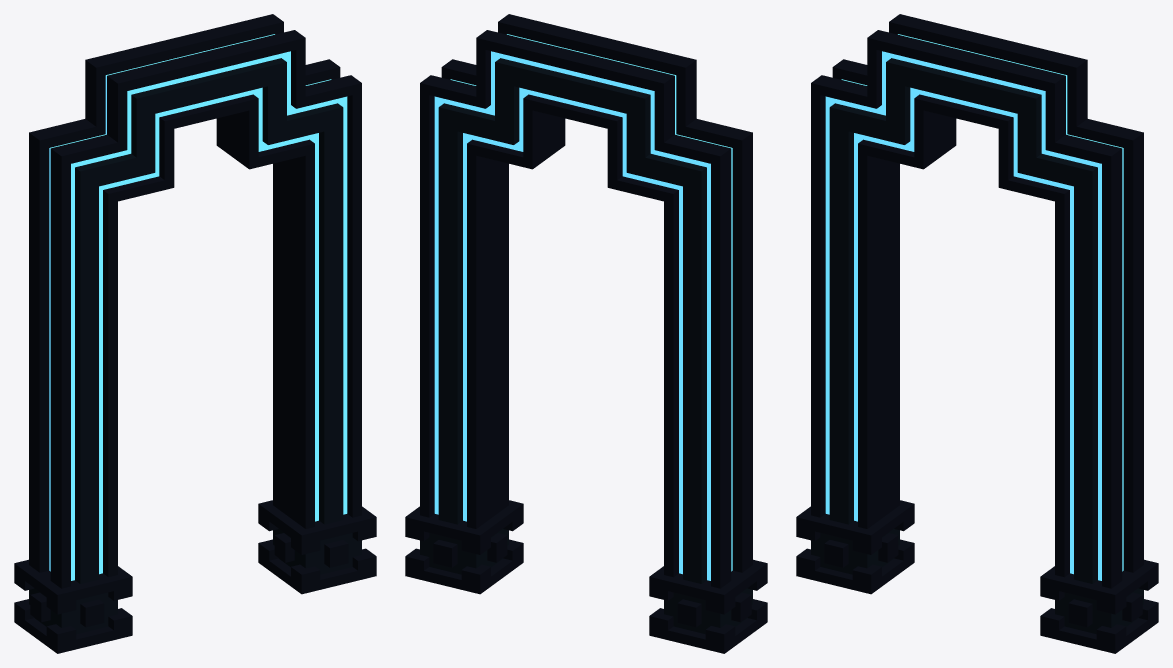
The model's file is PortalFrame.glb.
3 views of the same model, side by side, from view 1: azimuth 30°, elevation 25°; view 2: azimuth 150°, elevation 25°; view 3: azimuth 330°, elevation 25° (orthographic).
Parts seen in each view (by area): view 1: PortalFrame; view 2: PortalFrame; view 3: PortalFrame.
Part boxes in pixels (box(x1,y1,x2,y2)): PortalFrame: box(14, 14, 376, 653); PortalFrame: box(405, 14, 767, 653); PortalFrame: box(796, 14, 1158, 653).
Size of the model in its own units: 0.85 by 1.4 by 0.2.
